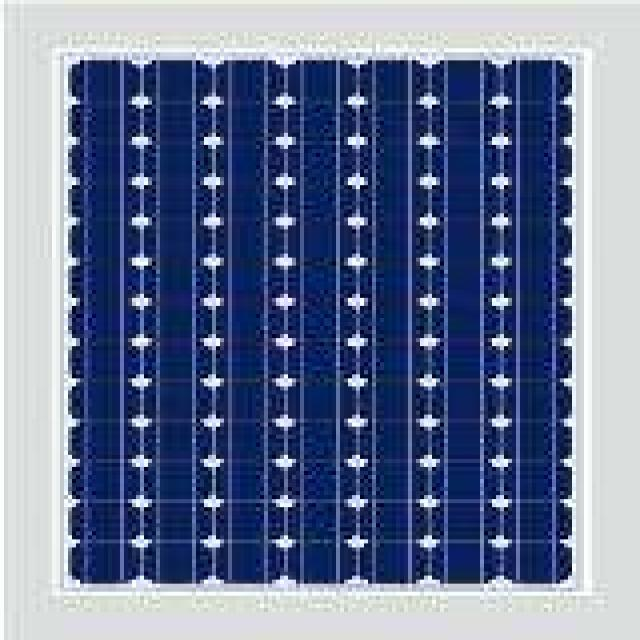clean-solar-panel: (69, 60, 570, 579)
